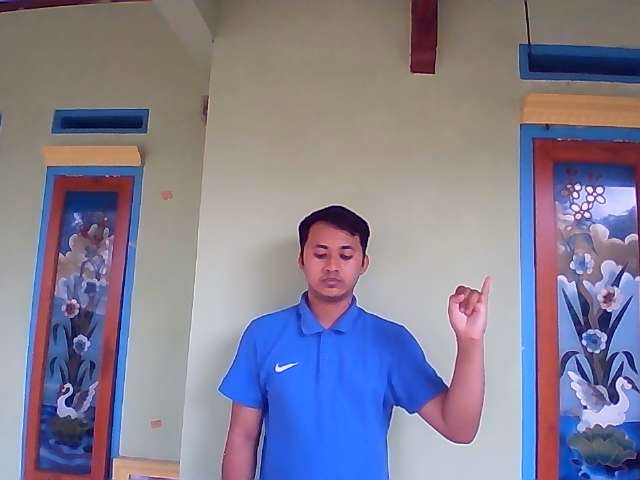I: (447, 275, 492, 339)
